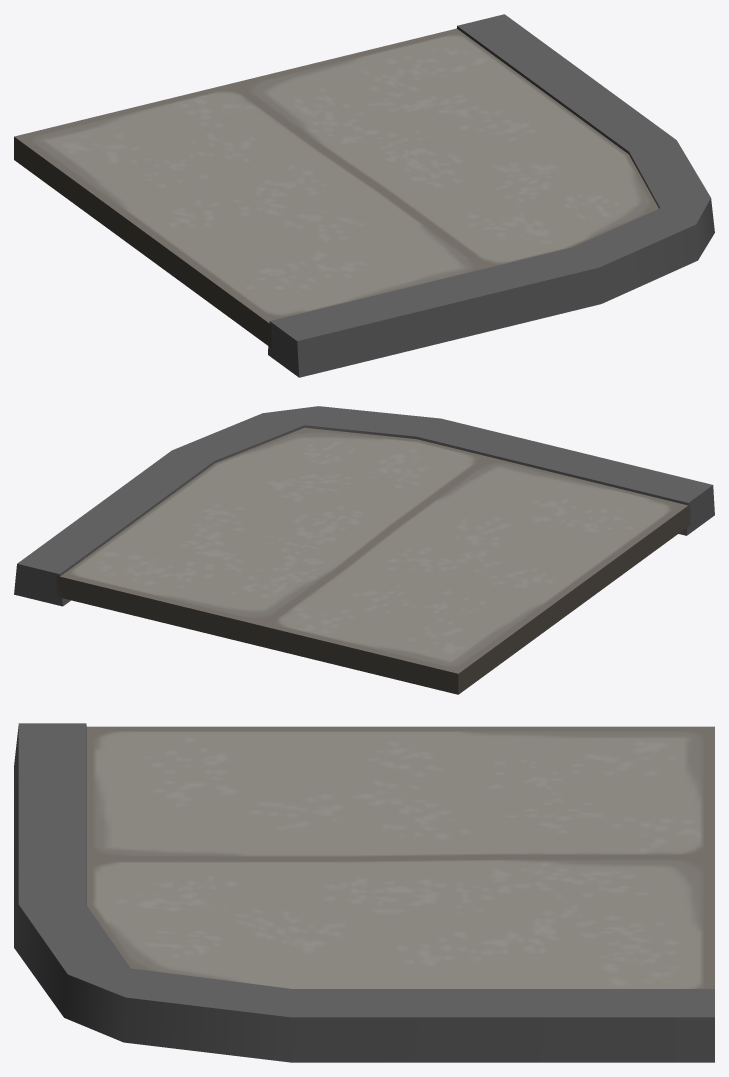
File: Sidewalk_B0.fbx
3 renders of one model, top to bottom at view 1: azimuth 30°, elevation 25°; view 2: azimuth 150°, elevation 25°; view 3: azimuth 270°, elevation 25°, orthographic. The views are drawn at different scales.
Visible parts, largest first — view 1: Sidewalk_B1_Corner; view 2: Sidewalk_B1_Corner; view 3: Sidewalk_B1_Corner.
Boxes of the visible parts, box(x1,y1,x2,y2) form: Sidewalk_B1_Corner: box(14, 14, 714, 377); Sidewalk_B1_Corner: box(14, 406, 714, 694); Sidewalk_B1_Corner: box(14, 723, 714, 1062).
Size of the model in its own units: 443 by 30.09 by 443.
